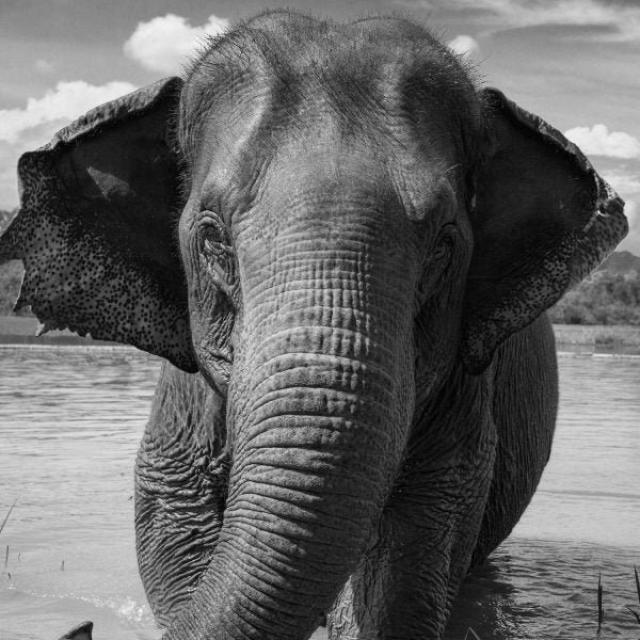elephant: (1, 11, 628, 639)
